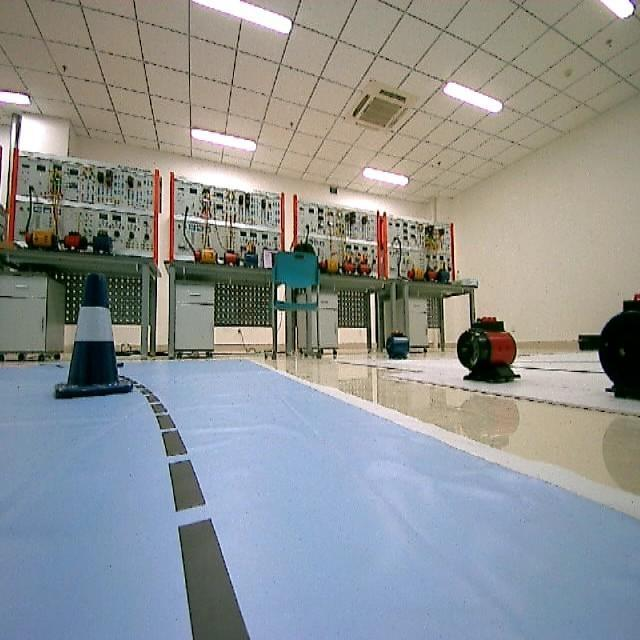obstacle: (40, 272, 140, 402)
